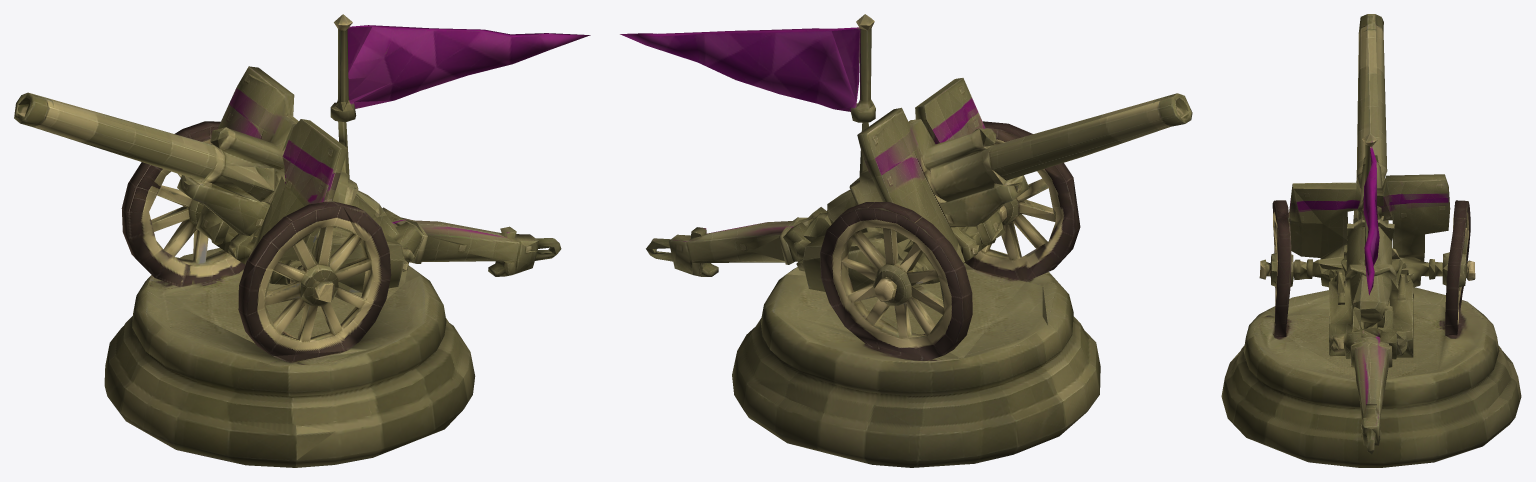
Rendered from anzac_bishop.glb.
3 renders of one model, left to right at view 1: azimuth 30°, elevation 25°; view 2: azimuth 150°, elevation 25°; view 3: azimuth 270°, elevation 25°, orthographic. The views are drawn at different scales.
Bounding box in the file's own units: 2 × 1.22 × 1.13.
1 material, 1 textured.
